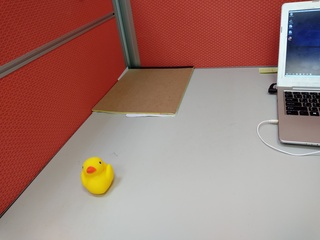duck: (74, 157, 117, 197)
